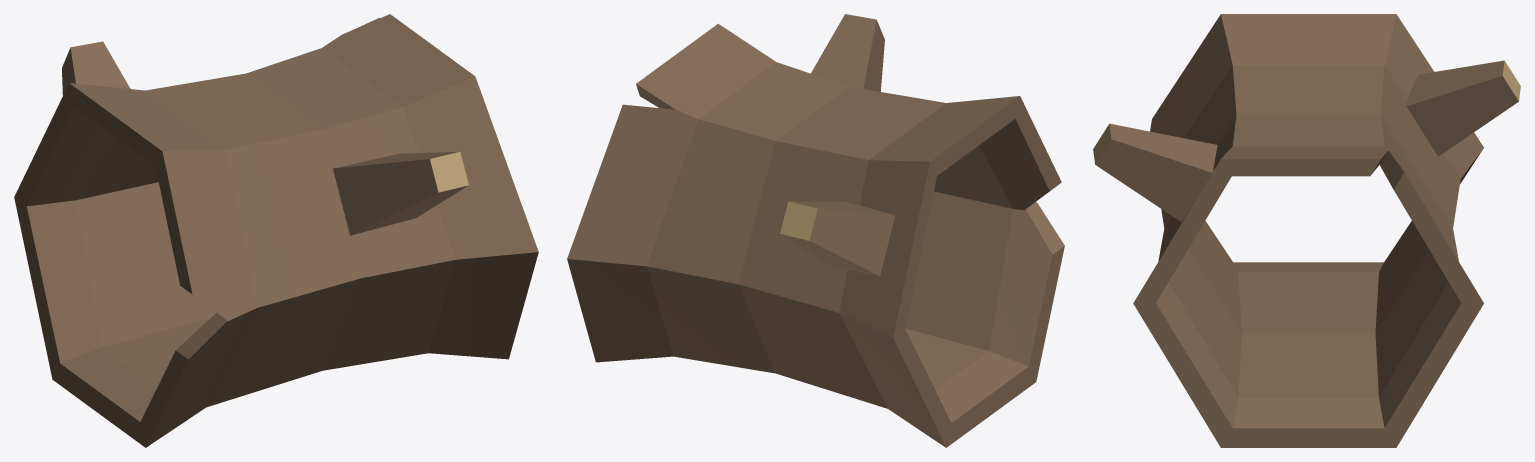
Rendered from Hilly_Prop_Hollow_Trunk.obj.
3 renders of one model, left to right at view 1: azimuth 30°, elevation 25°; view 2: azimuth 150°, elevation 25°; view 3: azimuth 270°, elevation 25°, orthographic. The views are drawn at different scales.
Parts seen in each view (by area): view 1: object2, object3, object1; view 2: object2, object1, object3; view 3: object2, object3, object1.
Part boxes in pixels (bbox=[...]): object2: bbox=[14, 14, 538, 447]; object3: bbox=[333, 151, 468, 235]; object1: bbox=[62, 41, 130, 95]; object2: bbox=[567, 23, 1064, 447]; object1: bbox=[780, 201, 895, 276]; object3: bbox=[811, 14, 884, 91]; object2: bbox=[1133, 14, 1483, 447]; object3: bbox=[1093, 123, 1217, 221]; object1: bbox=[1406, 60, 1520, 156].
Size of the model in its own units: 0.9199 by 0.7081 by 0.9982.
